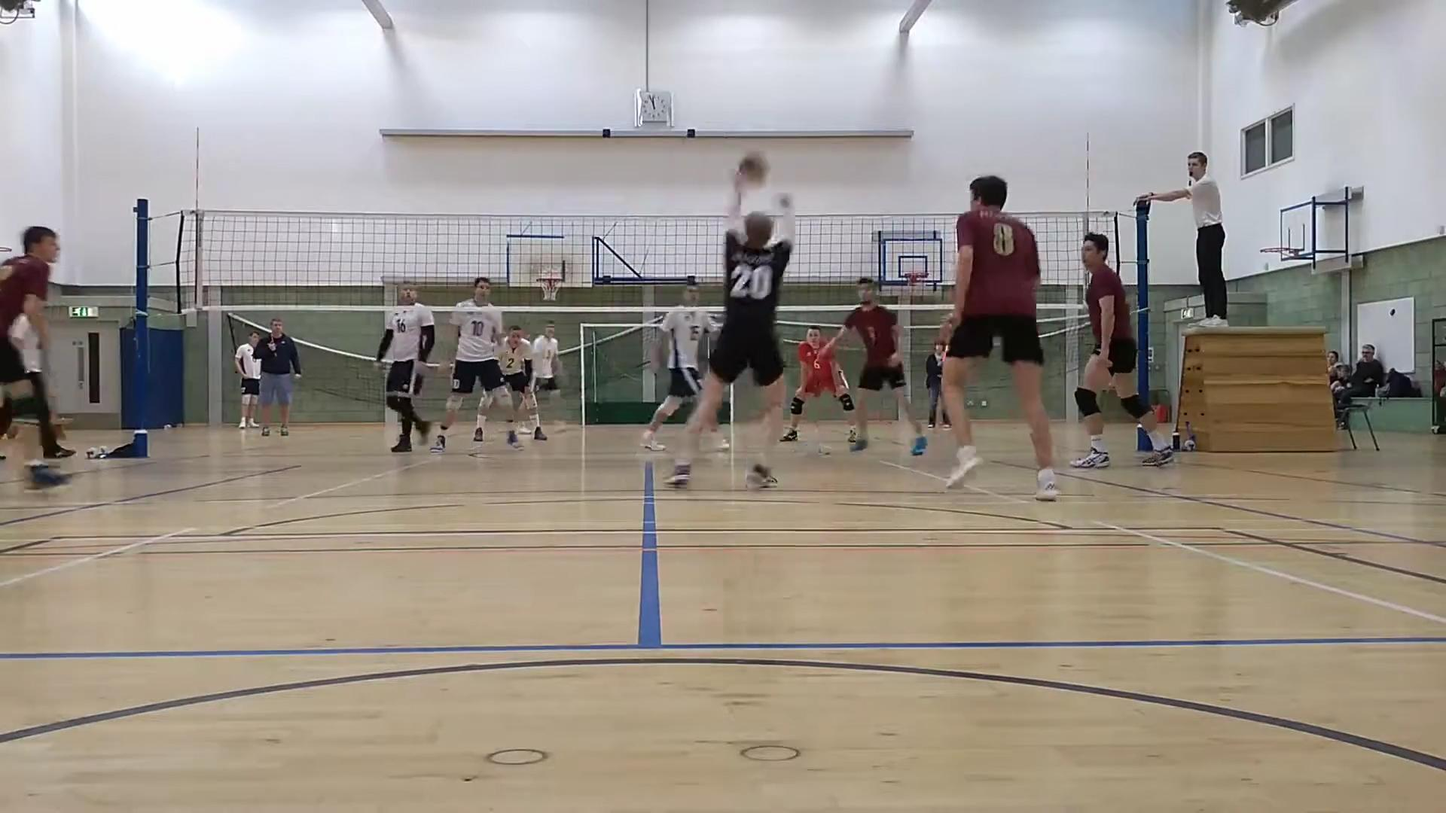Player: (944, 176, 1057, 501), (1071, 233, 1172, 467), (828, 278, 926, 455), (431, 276, 510, 452), (642, 282, 717, 450), (0, 228, 59, 424), (376, 282, 435, 452), (779, 326, 857, 443), (498, 325, 546, 447), (10, 315, 49, 398), (532, 321, 561, 402)
Receive: (699, 178, 812, 496)
ball: (729, 152, 779, 187)
